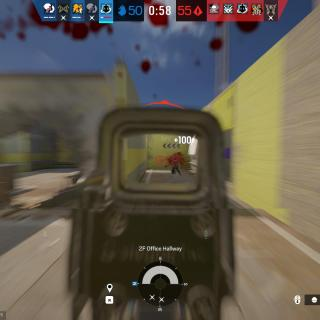Character: (164, 156, 182, 176)
